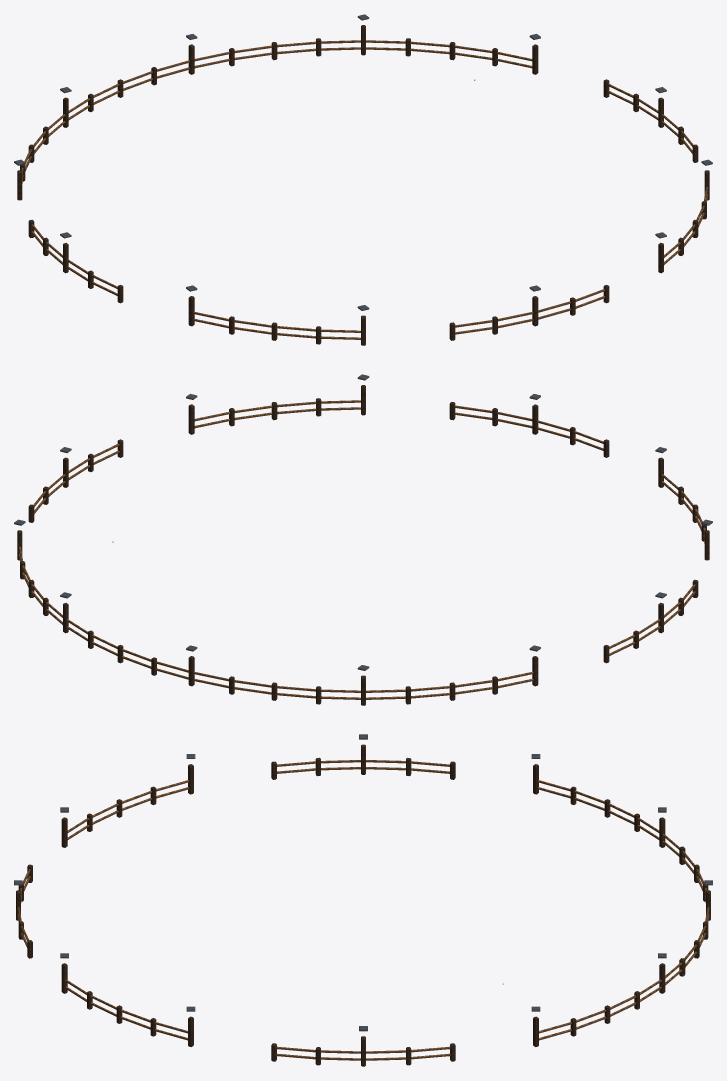
The model's file is env_fence_ring.fbx.
3 views of the same model, one above another, from view 1: azimuth 30°, elevation 25°; view 2: azimuth 150°, elevation 25°; view 3: azimuth 270°, elevation 25° (orthographic).
Visible parts, largest first — view 1: env_fence_ring; view 2: env_fence_ring; view 3: env_fence_ring.
Part boxes in pixels (bbox=[...]): env_fence_ring: bbox=[14, 14, 712, 345]; env_fence_ring: bbox=[14, 374, 712, 705]; env_fence_ring: bbox=[14, 734, 712, 1066].
Size of the model in its own units: 127 by 7.62 by 127.
Materials: 2 (1 with a texture image).
